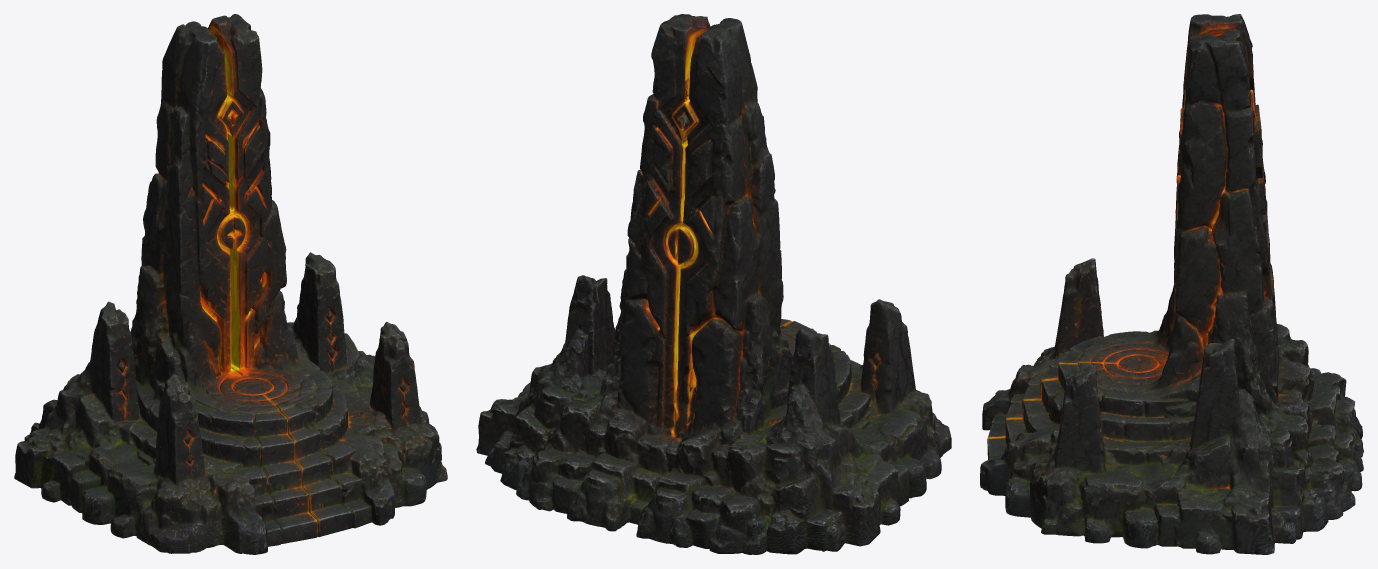
Rendered from Volcanic_Monolith.glb.
The picture shows the model from 3 angles, left to right: view 1: azimuth 30°, elevation 25°; view 2: azimuth 150°, elevation 25°; view 3: azimuth 270°, elevation 25°; orthographic projection. The views are drawn at different scales.
Parts seen in each view (by area): view 1: Volcanic_Monolith; view 2: Volcanic_Monolith; view 3: Volcanic_Monolith.
Part boxes in pixels (<box>): Volcanic_Monolith: <box>14,14,447,554</box>; Volcanic_Monolith: <box>476,14,951,554</box>; Volcanic_Monolith: <box>980,14,1363,554</box>.
Size of the model in its own units: 1.71 by 1.9 by 1.52.
1 material, 1 textured.
